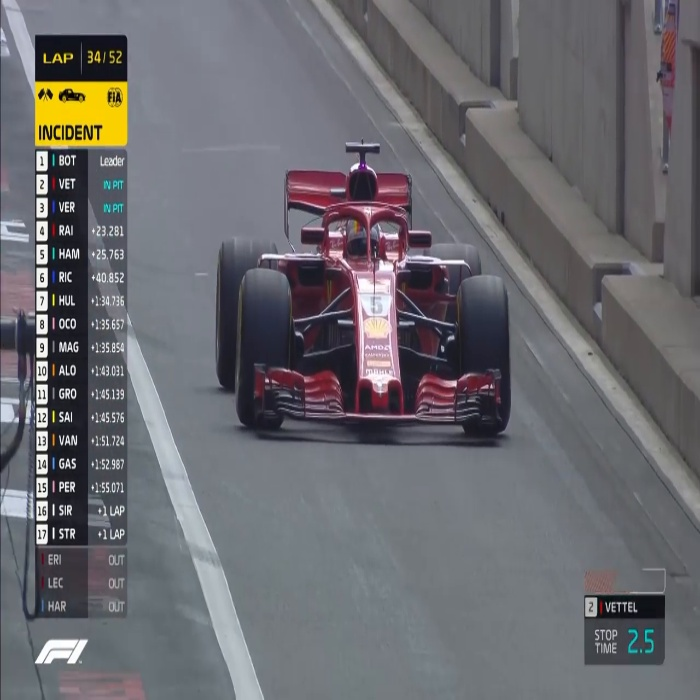f1_car: (175, 124, 552, 462)
